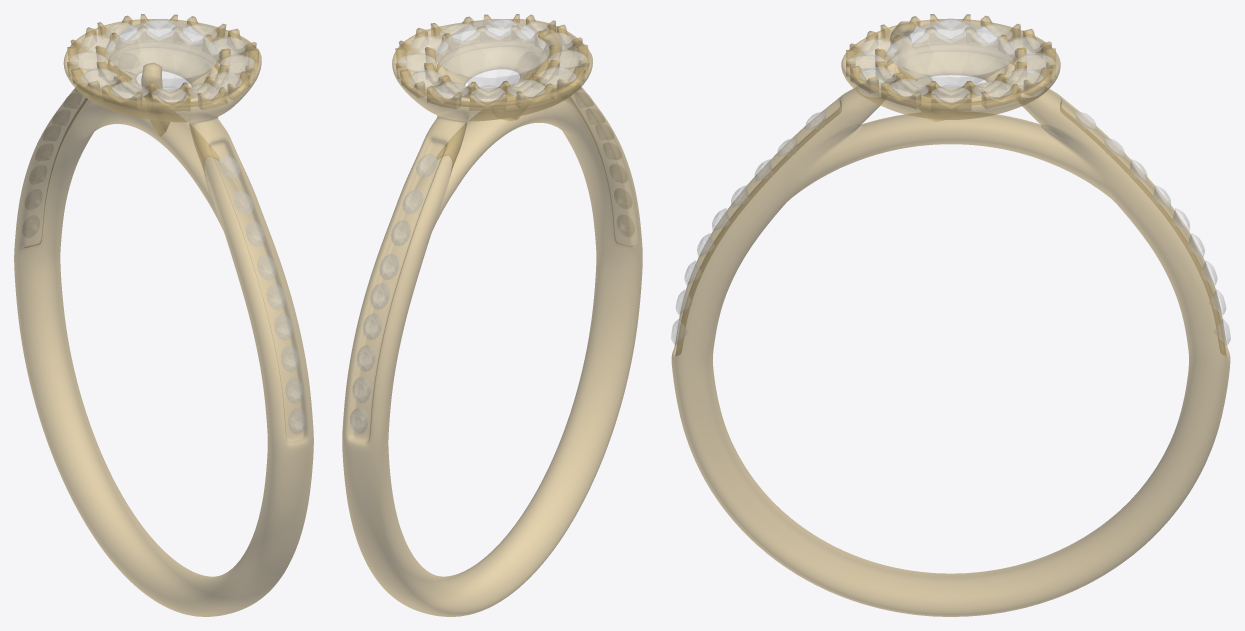
3 renders of one model, left to right at view 1: azimuth 30°, elevation 25°; view 2: azimuth 150°, elevation 25°; view 3: azimuth 270°, elevation 25°, orthographic. The views are drawn at different scales.
Parts seen in each view (by area): view 1: Ring, Diamond; view 2: Ring, Diamond; view 3: Ring, Diamond.
Part boxes in pixels (left/top/right/bottom): Ring: left=14, top=14, right=313, bottom=616; Diamond: left=23, top=19, right=305, bottom=433; Ring: left=342, top=14, right=642, bottom=616; Diamond: left=350, top=19, right=634, bottom=433; Ring: left=671, top=14, right=1230, bottom=616; Diamond: left=671, top=19, right=1230, bottom=344.
Bounding box in the file's own units: 0.8495 × 2.64 × 2.31.
